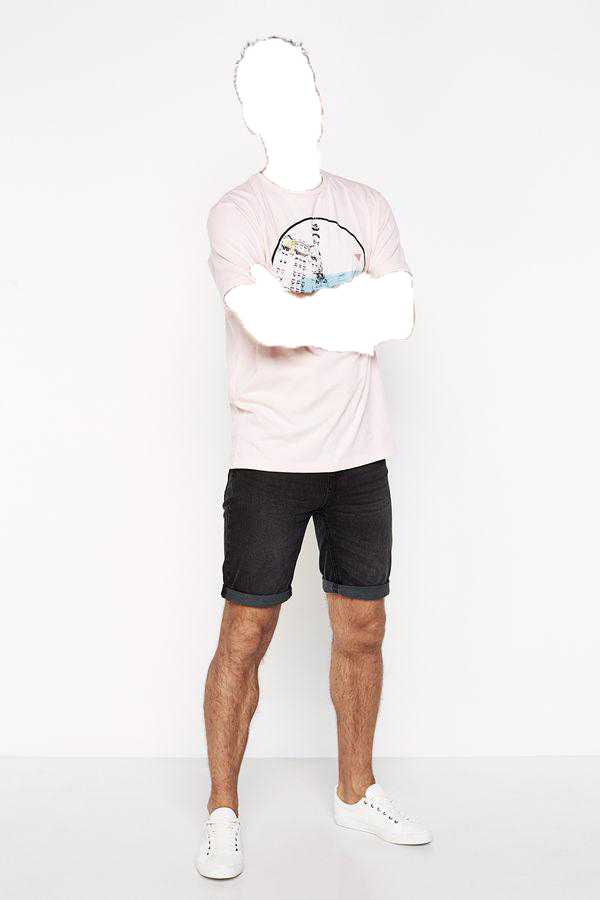teeshirt: (197, 167, 437, 481)
